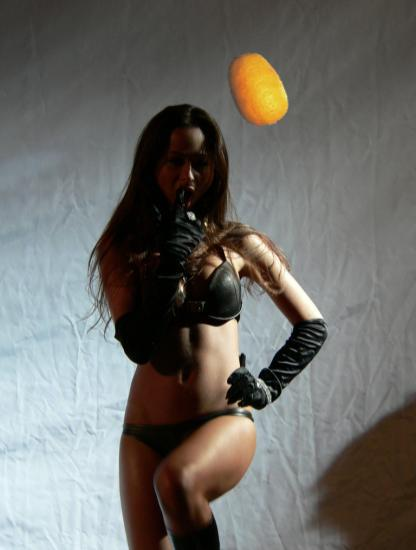Kumquats: (219, 52, 295, 128)
